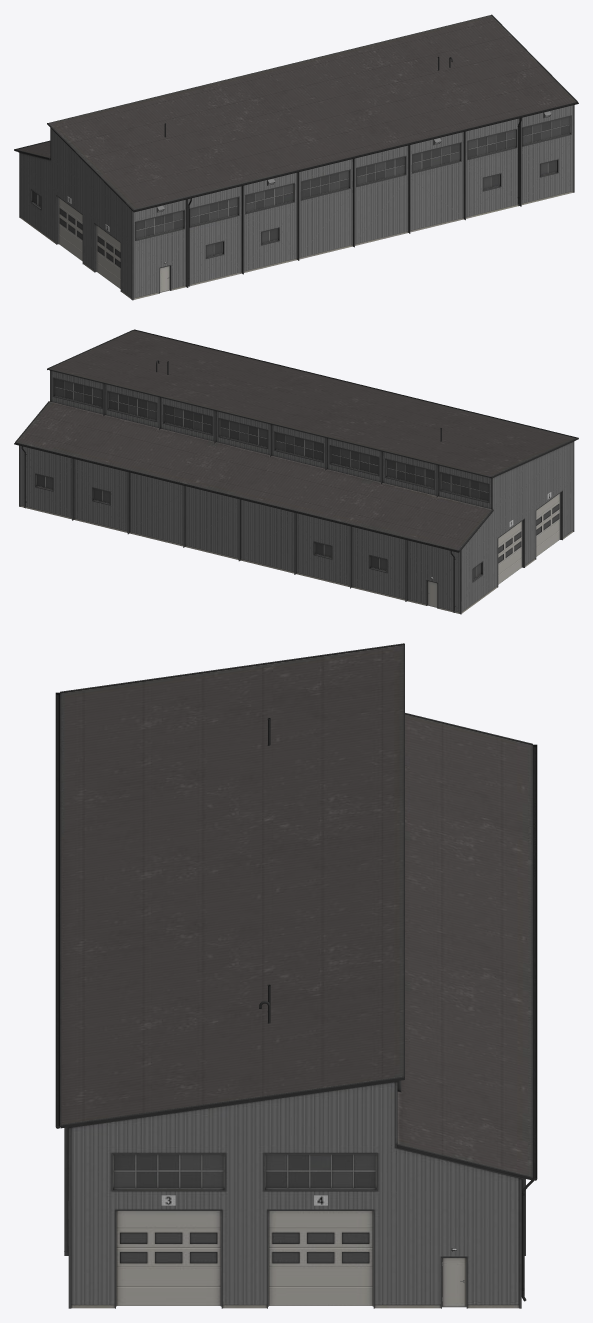
Rendered from maqueta.glb.
3 views of the same model, one above another, from view 1: azimuth 30°, elevation 25°; view 2: azimuth 150°, elevation 25°; view 3: azimuth 270°, elevation 25° (orthographic). The views are drawn at different scales.
Visible parts, largest first — view 1: Obj_IBuilding49, Corners49, Gate49004, Gate49003, Rainsystem149, RoofDetail49; view 2: Obj_IBuilding49, Corners49, Rainsystem00249, Gate49004, Gate49003, Rainsystem149, RoofDetail49; view 3: Obj_IBuilding49, Gate49002, Gate49001, RoofDetail49, Rainsystem149, Rainsystem00249, Corners49.
Part boxes in pixels (left/top/right/bottom): Obj_IBuilding49: left=17, top=15, right=576, bottom=299; Corners49: left=19, top=105, right=574, bottom=300; Gate49004: left=97, top=226, right=120, bottom=288; Gate49003: left=59, top=198, right=82, bottom=261; Rainsystem149: left=133, top=102, right=578, bottom=212; RoofDetail49: left=15, top=14, right=577, bottom=211; Obj_IBuilding49: left=16, top=330, right=575, bottom=613; Corners49: left=19, top=370, right=574, bottom=614; Rainsystem00249: left=14, top=442, right=459, bottom=552; Gate49004: left=536, top=493, right=559, bottom=556; Gate49003: left=498, top=521, right=521, bottom=584; Rainsystem149: left=134, top=329, right=578, bottom=439; RoofDetail49: left=15, top=330, right=577, bottom=551; Obj_IBuilding49: left=60, top=644, right=532, bottom=1308; Gate49002: left=116, top=1211, right=220, bottom=1305; Gate49001: left=269, top=1211, right=372, bottom=1305; RoofDetail49: left=60, top=643, right=532, bottom=1180; Rainsystem149: left=55, top=692, right=59, bottom=1128; Rainsystem00249: left=533, top=744, right=537, bottom=1180; Corners49: left=64, top=1080, right=525, bottom=1308.
Bounding box in the file's own units: 37.72 × 9.71 × 17.68.
Materials: 1 (1 with a texture image).
